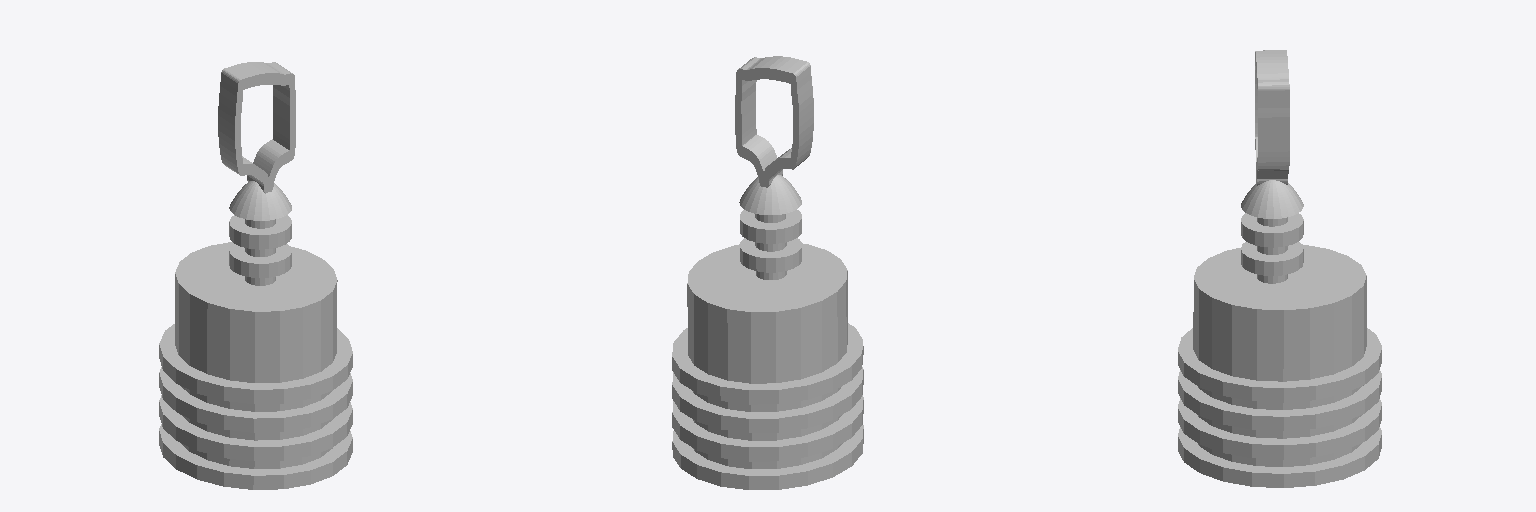
The model's file is lightbulb.obj.
3 views of the same model, side by side, from view 1: azimuth 30°, elevation 25°; view 2: azimuth 150°, elevation 25°; view 3: azimuth 270°, elevation 25° (orthographic).
Visible parts, largest first — view 1: obj_0; view 2: obj_0; view 3: obj_0.
Boxes of the visible parts, <box> form: obj_0: <box>159,62,352,489</box>; obj_0: <box>672,56,863,489</box>; obj_0: <box>1178,50,1381,487</box>.
Bounding box in the file's own units: 12.01 × 26.94 × 13.